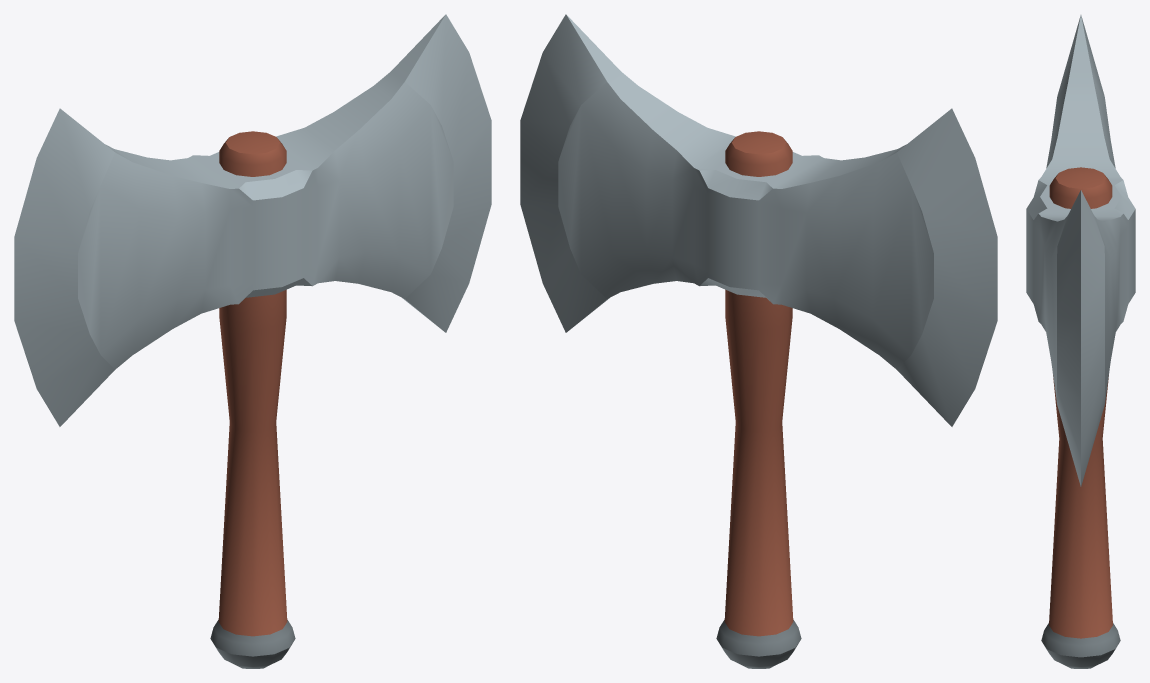
The model's file is axeDouble_uncommon.glb.
3 views of the same model, side by side, from view 1: azimuth 30°, elevation 25°; view 2: azimuth 150°, elevation 25°; view 3: azimuth 270°, elevation 25° (orthographic). The views are drawn at different scales.
Visible parts, largest first — view 1: axeDouble_uncommon; view 2: axeDouble_uncommon; view 3: axeDouble_uncommon.
Part boxes in pixels (x1,y1,x2,y2): axeDouble_uncommon: [14, 14, 491, 668]; axeDouble_uncommon: [520, 14, 997, 668]; axeDouble_uncommon: [1026, 15, 1135, 668].
Size of the model in its own units: 0.7926 by 0.9528 by 0.1686.
